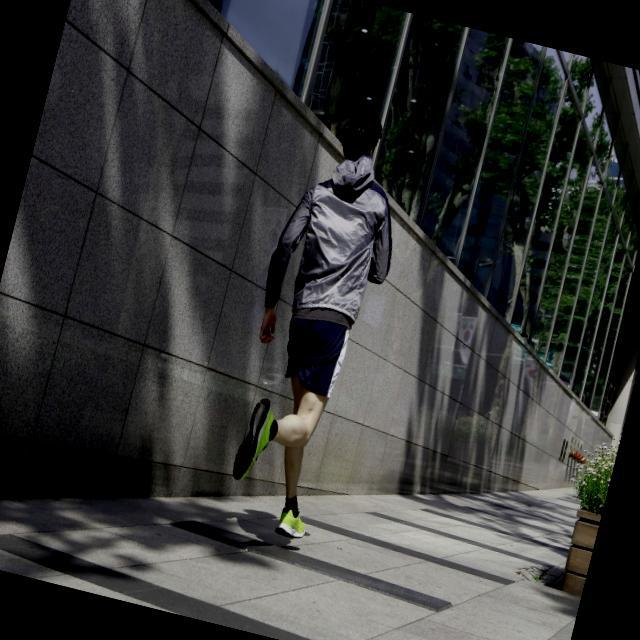person: (202, 84, 432, 554)
